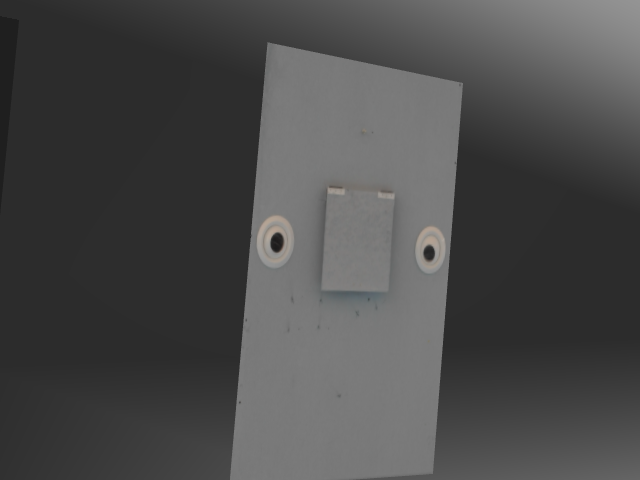facade: (253, 182, 450, 295)
